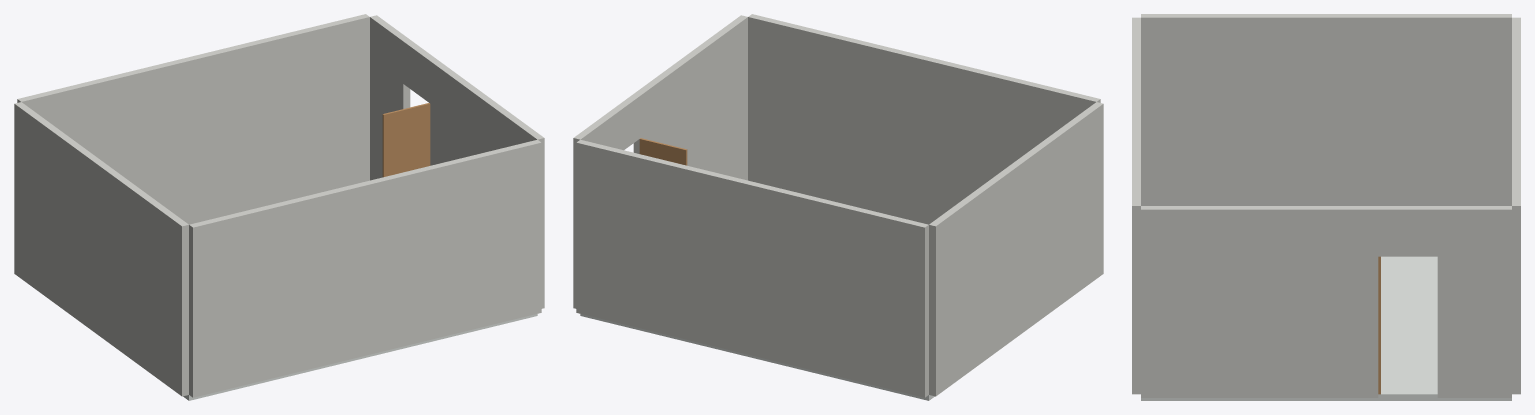
The picture shows the model from 3 angles, left to right: view 1: azimuth 30°, elevation 25°; view 2: azimuth 150°, elevation 25°; view 3: azimuth 270°, elevation 25°; orthographic projection. The views are drawn at different scales.
Parts seen in each view (by area): view 1: room:north:full, room:south:full, room:west:full, room:east:high, room:east:low, door:leaf, room:east:lintel, room:floor; view 2: room:south:full, room:north:full, room:west:full, room:east:high, room:east:low, room:east:lintel, room:floor, door:leaf; view 3: room:west:full, room:east:high, room:east:low, room:floor, room:south:full, room:north:full, room:east:lintel, door:leaf.
Boxes of the visible parts, x1,y1,x2,y2 form: room:north:full: [189, 139, 541, 397]; room:south:full: [17, 14, 369, 224]; room:west:full: [14, 102, 188, 396]; room:east:high: [430, 59, 544, 308]; room:east:low: [370, 15, 410, 180]; door:leaf: [382, 103, 430, 177]; room:east:lintel: [403, 40, 436, 103]; room:floor: [183, 314, 537, 400]; room:south:full: [576, 139, 928, 397]; room:north:full: [748, 14, 1100, 224]; room:west:full: [929, 102, 1103, 396]; room:east:high: [633, 15, 747, 180]; room:east:low: [573, 113, 613, 308]; room:east:lintel: [607, 94, 640, 150]; room:floor: [580, 314, 934, 400]; door:leaf: [639, 138, 687, 165]; room:west:full: [1141, 14, 1511, 205]; room:east:high: [1141, 206, 1378, 397]; room:east:low: [1437, 206, 1511, 397]; room:floor: [1141, 256, 1511, 400]; room:south:full: [1512, 17, 1520, 394]; room:north:full: [1132, 17, 1140, 394]; room:east:lintel: [1378, 206, 1437, 256]; door:leaf: [1378, 256, 1380, 394].
Bounding box in the file's own units: 6.24 × 2.9 × 5.24.
